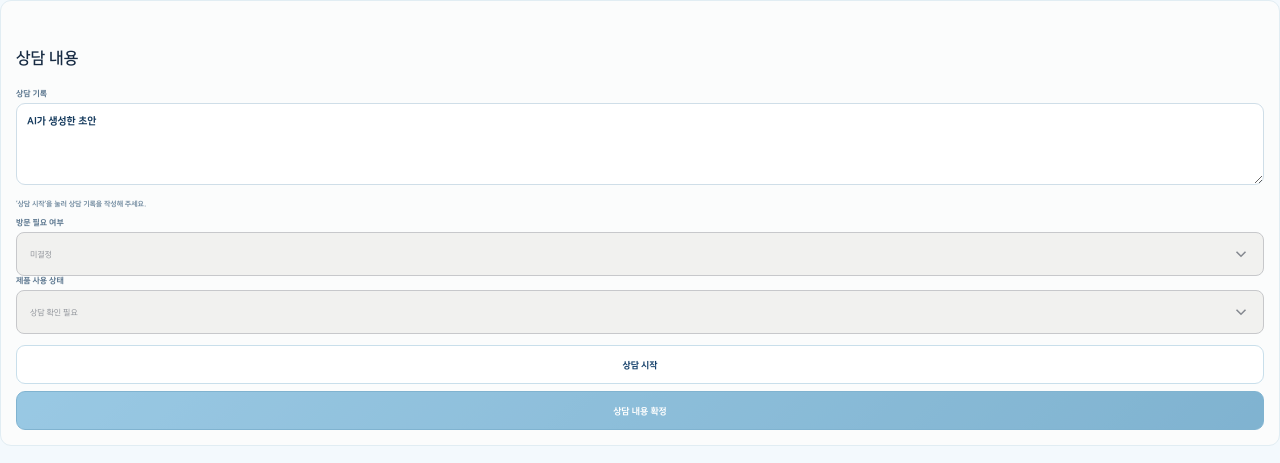
Scenario: Remote 상담 처리 Panel › AI 초안만 있으면 서버 저장 전에는 확정할 수 없다
Check: the text box labelled "상담 기록" holds "AI가 생성한 초안", box [16,102,1264,184]
Check: the button "상담 내용 확정" is disabled, box [16,391,1264,430]
Click the button "상담 시작": [640, 365] box [16,345,1264,384]
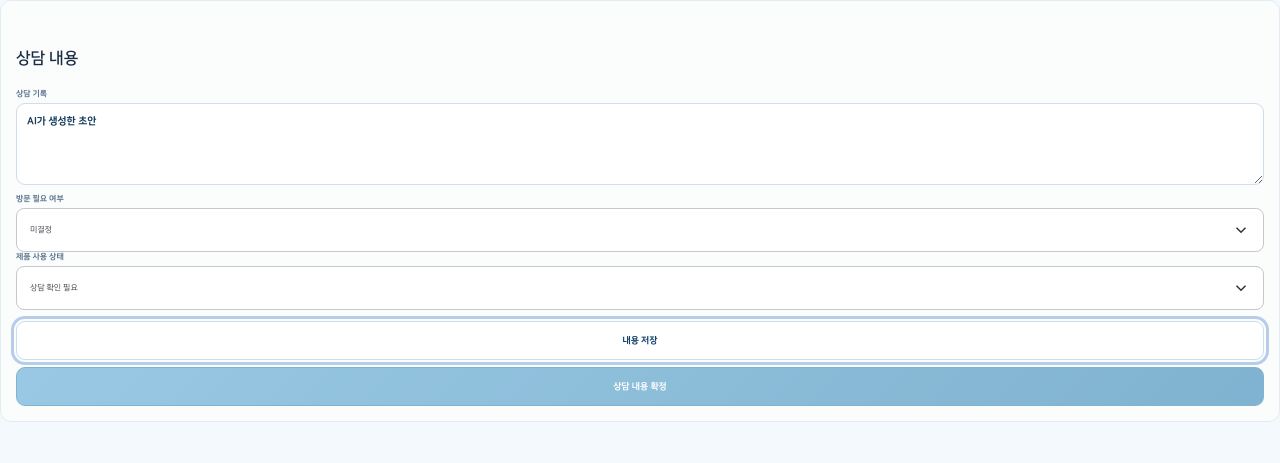
Click the button "내용 저장": [640, 340] box [16,320,1264,360]
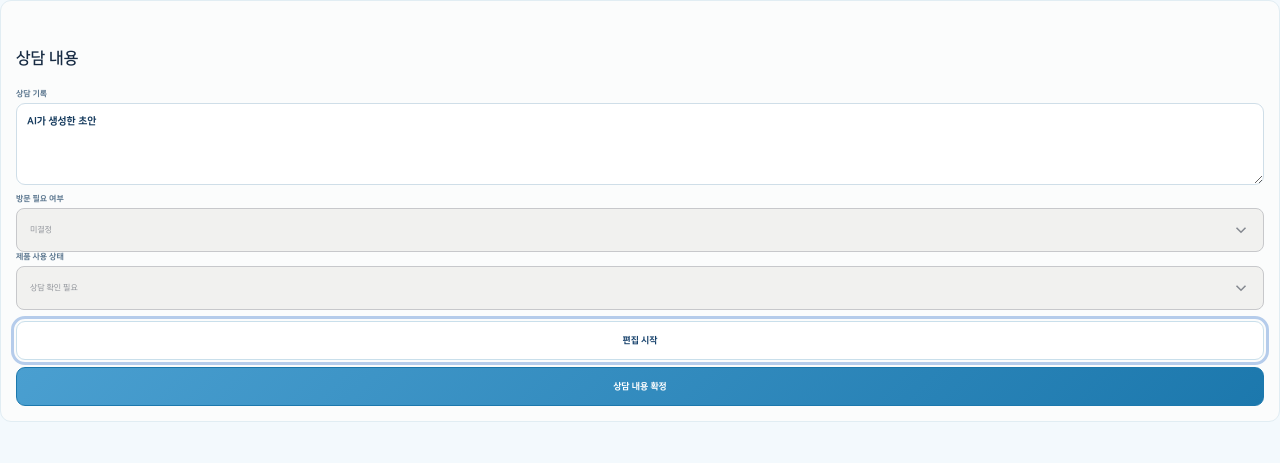
Check: the button "상담 내용 확정" is enabled, box [16,366,1264,406]
